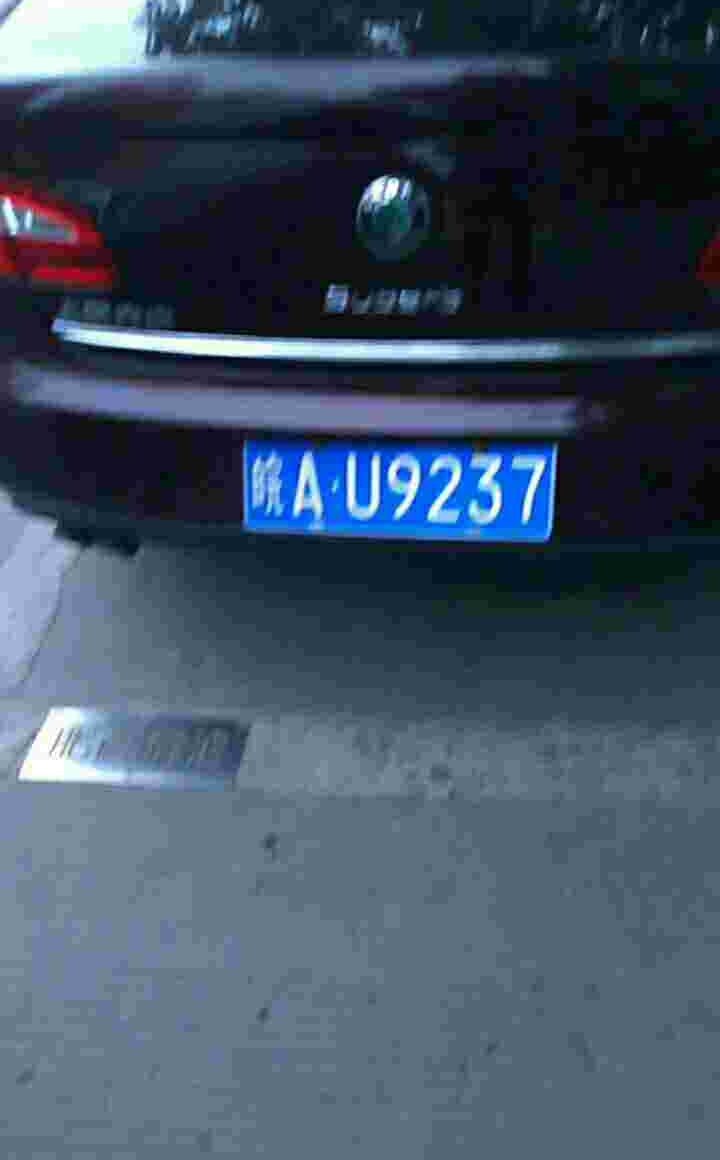car: (240, 437, 556, 537)
